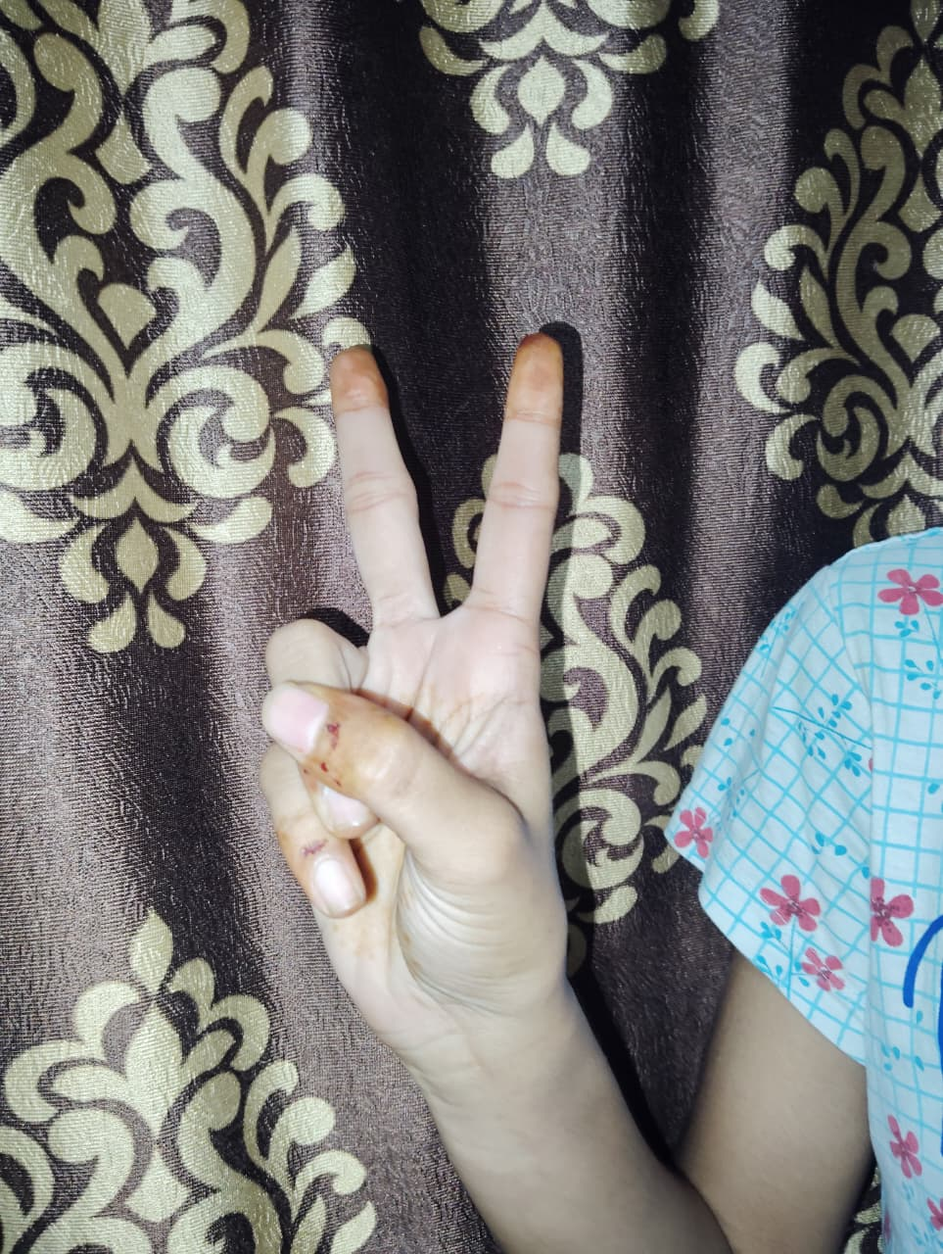V: (263, 321, 569, 996)
